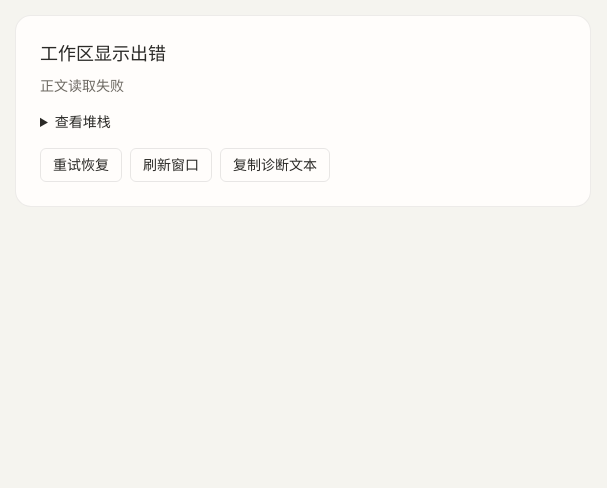
渲染错误恢复 › 显示错误摘要，按需展开堆栈及复制诊断
Expected: the text "正文读取失败" is shown, [40,77,124,94]
Expected: the button "刷新窗口" is enabled, [130,148,212,182]
Step 1. Click the heading "查看堆栈" → (83, 122), box [55,113,111,130]
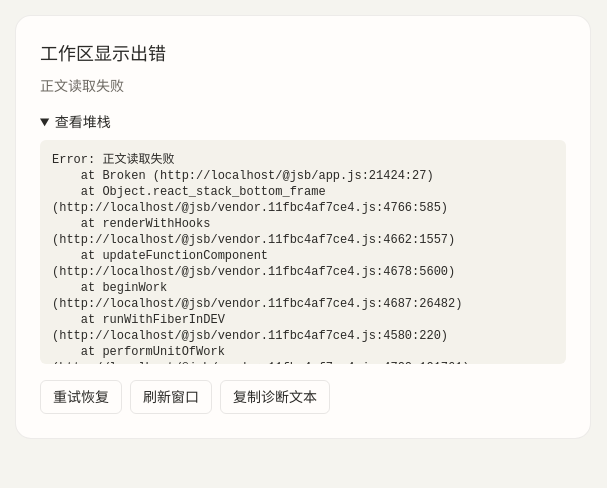
Now the text "Error: 正文读取失败" is shown, box [52,153,470,471]
Step 2. Click the button "复制诊断文本" → (275, 397), box [220,380,330,414]
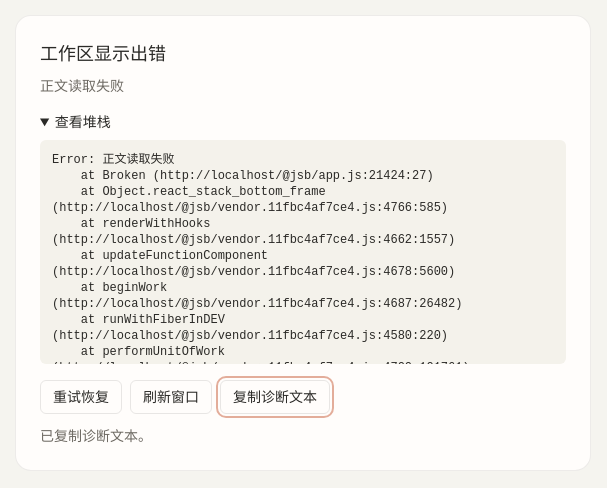
Now the text "已复制诊断文本。" is shown, box [40,427,152,444]
